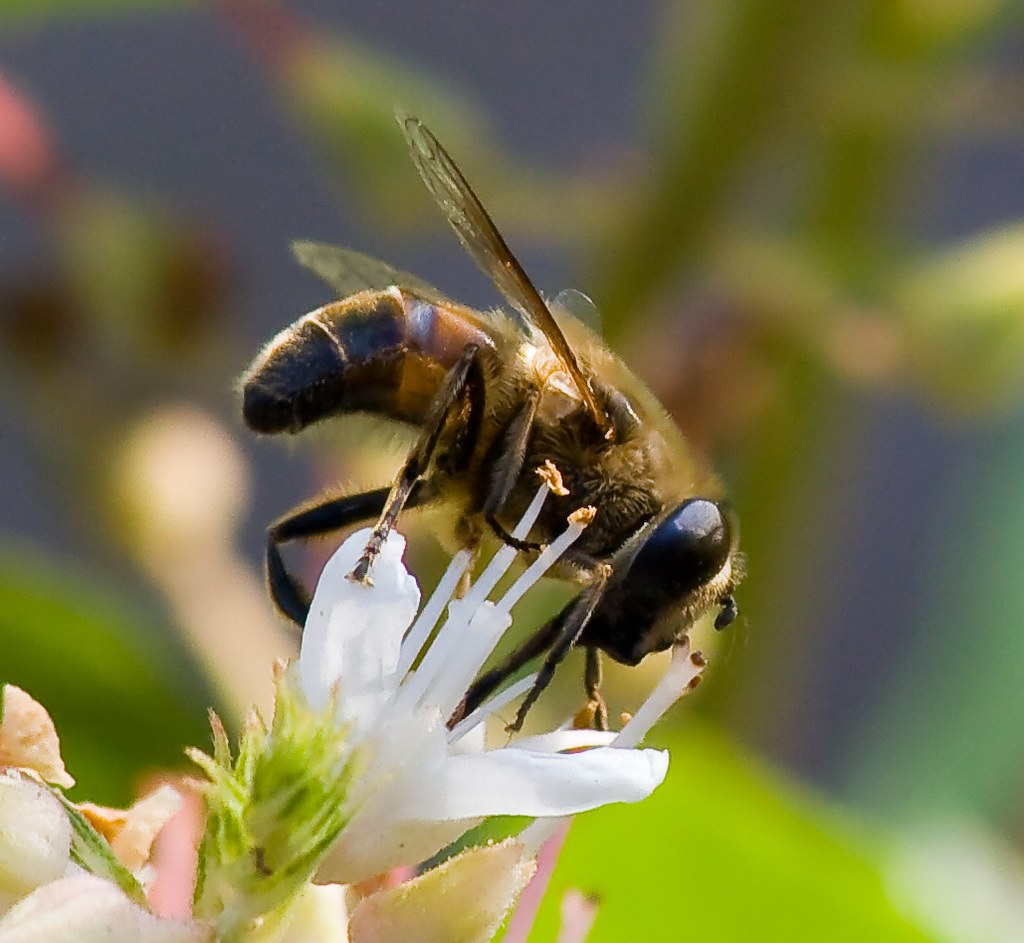bee: (249, 107, 751, 811)
insect: (269, 454, 706, 884), (0, 679, 611, 942)
